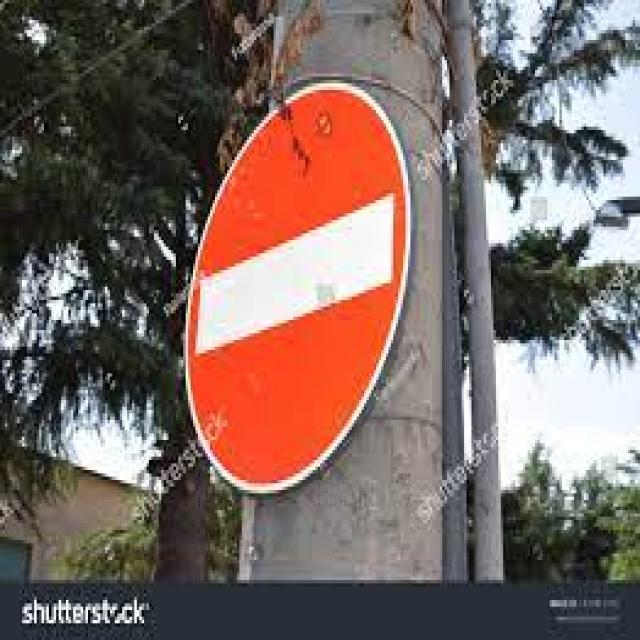NO_ENTRY: (183, 84, 411, 498)
